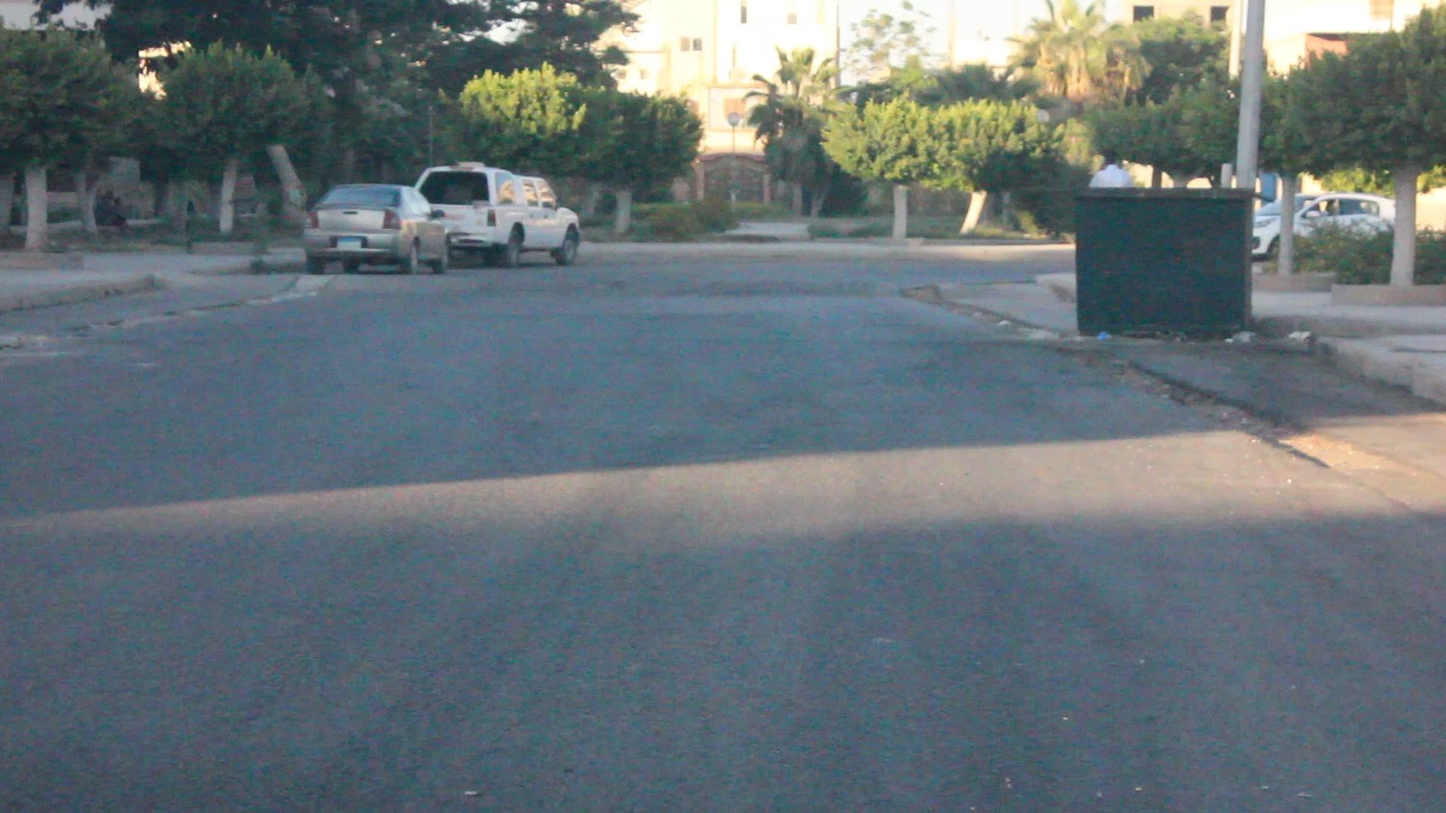Bump: (275, 267, 953, 301)
